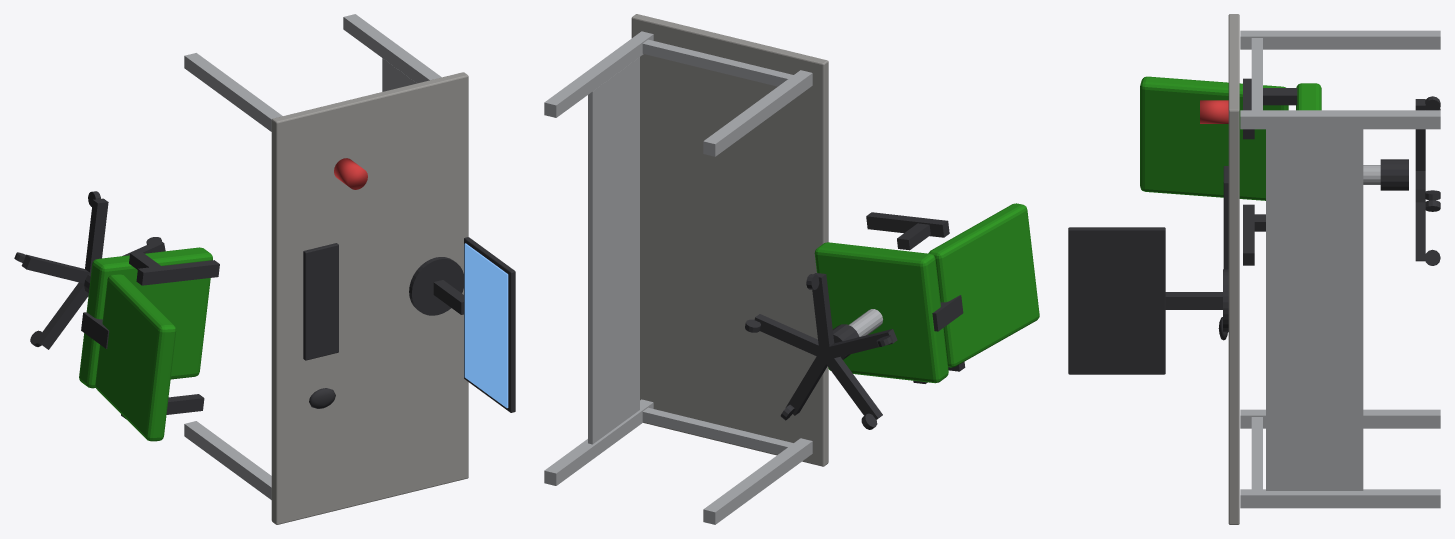
Rendered from podC_workstation1.glb.
The picture shows the model from 3 angles, left to right: view 1: azimuth 30°, elevation 25°; view 2: azimuth 150°, elevation 25°; view 3: azimuth 270°, elevation 25°; orthographic projection. The views are drawn at different scales.
Parts seen in each view (by area): view 1: podC_desk1_top, podC_chair1_back, podC_chair1_seat, podC_mon1_screen, podC_clut1_keyboard, podC_desk1_leg, podC_desk1_leg.002, podC_desk1_leg.001, podC_mon1_base, podC_mon1_panel, podC_chair1_arm.001, podC_chair1_spoke2 (+7 smaller); view 2: podC_desk1_top, podC_desk1_modesty, podC_chair1_seat, podC_chair1_back, podC_desk1_leg, podC_desk1_leg.002, podC_desk1_leg.001, podC_desk1_rail, podC_desk1_rail.001, podC_desk1_leg.003, podC_chair1_arm.001, podC_chair1_spoke2 (+7 smaller); view 3: podC_desk1_modesty, podC_mon1_panel, podC_chair1_back, podC_desk1_top, podC_desk1_leg.001, podC_desk1_leg, podC_desk1_leg.003, podC_desk1_leg.002, podC_mon1_neck, podC_chair1_gas, podC_desk1_rail, podC_desk1_rail.001 (+7 smaller).
Part boxes in pixels (bbox=[...]): podC_desk1_top: bbox=[271, 72, 468, 524]; podC_chair1_back: bbox=[95, 274, 176, 441]; podC_chair1_seat: bbox=[79, 247, 212, 388]; podC_mon1_screen: bbox=[464, 243, 508, 408]; podC_clut1_keyboard: bbox=[303, 243, 338, 360]; podC_desk1_leg: bbox=[184, 53, 282, 131]; podC_desk1_leg.002: bbox=[184, 421, 271, 499]; podC_desk1_leg.001: bbox=[343, 14, 441, 83]; podC_mon1_base: bbox=[409, 257, 463, 315]; podC_mon1_panel: bbox=[464, 237, 515, 412]; podC_chair1_arm.001: bbox=[136, 260, 219, 285]; podC_chair1_spoke2: bbox=[36, 282, 88, 349]; podC_desk1_top: bbox=[631, 14, 828, 466]; podC_desk1_modesty: bbox=[588, 57, 639, 444]; podC_chair1_seat: bbox=[814, 242, 948, 383]; podC_chair1_back: bbox=[928, 203, 1039, 367]; podC_desk1_leg: bbox=[703, 70, 812, 156]; podC_desk1_leg.002: bbox=[703, 438, 812, 524]; podC_desk1_leg.001: bbox=[544, 31, 653, 117]; podC_desk1_rail: bbox=[642, 39, 793, 86]; podC_desk1_rail.001: bbox=[642, 407, 793, 454]; podC_desk1_leg.003: bbox=[544, 399, 653, 485]; podC_chair1_arm.001: bbox=[866, 212, 949, 237]; podC_chair1_spoke2: bbox=[821, 352, 882, 419]; podC_desk1_modesty: bbox=[1266, 129, 1363, 490]; podC_mon1_panel: bbox=[1068, 227, 1165, 374]; podC_chair1_back: bbox=[1140, 76, 1288, 200]; podC_desk1_top: bbox=[1228, 14, 1239, 524]; podC_desk1_leg.001: bbox=[1240, 110, 1440, 129]; podC_desk1_leg: bbox=[1240, 30, 1440, 49]; podC_desk1_leg.003: bbox=[1240, 489, 1440, 508]; podC_desk1_leg.002: bbox=[1240, 409, 1440, 428]; podC_mon1_neck: bbox=[1165, 292, 1222, 309]; podC_chair1_gas: bbox=[1380, 159, 1408, 190]; podC_desk1_rail: bbox=[1251, 38, 1262, 110]; podC_desk1_rail.001: bbox=[1251, 417, 1262, 489].
Bounding box in the file's own units: 1.51 × 1.6 × 1.3.
